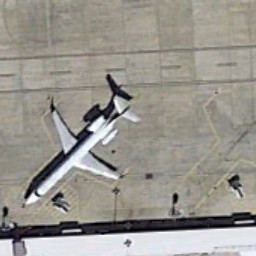Airplane: (17, 75, 149, 213)
